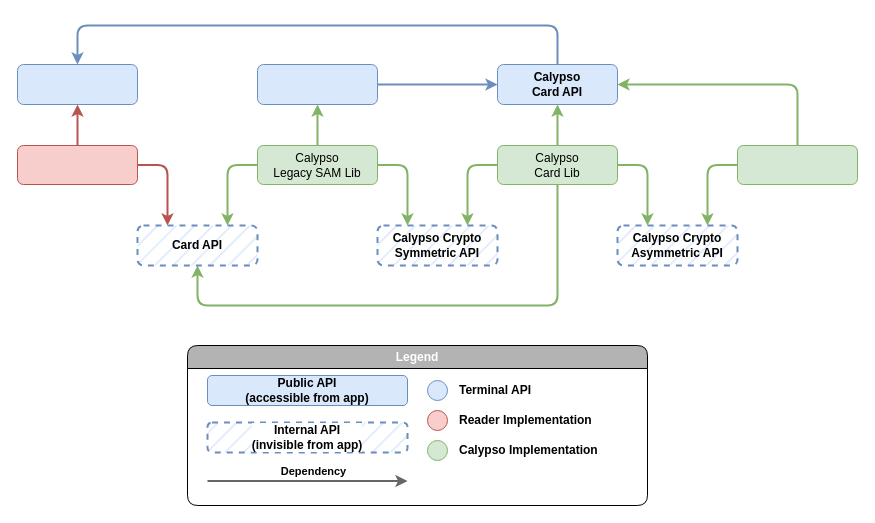
Image size: 875x523. Some labels were removed from this diagram. The box of each missing label's shape, as (x1, y1, x2, y2) in pixels:
Calypso Legacy SAM API: (256, 64, 378, 104)
Calypso PKI Lib: (736, 144, 858, 184)
Reader API: (16, 64, 138, 104)
Reader Lib: (16, 144, 138, 184)
